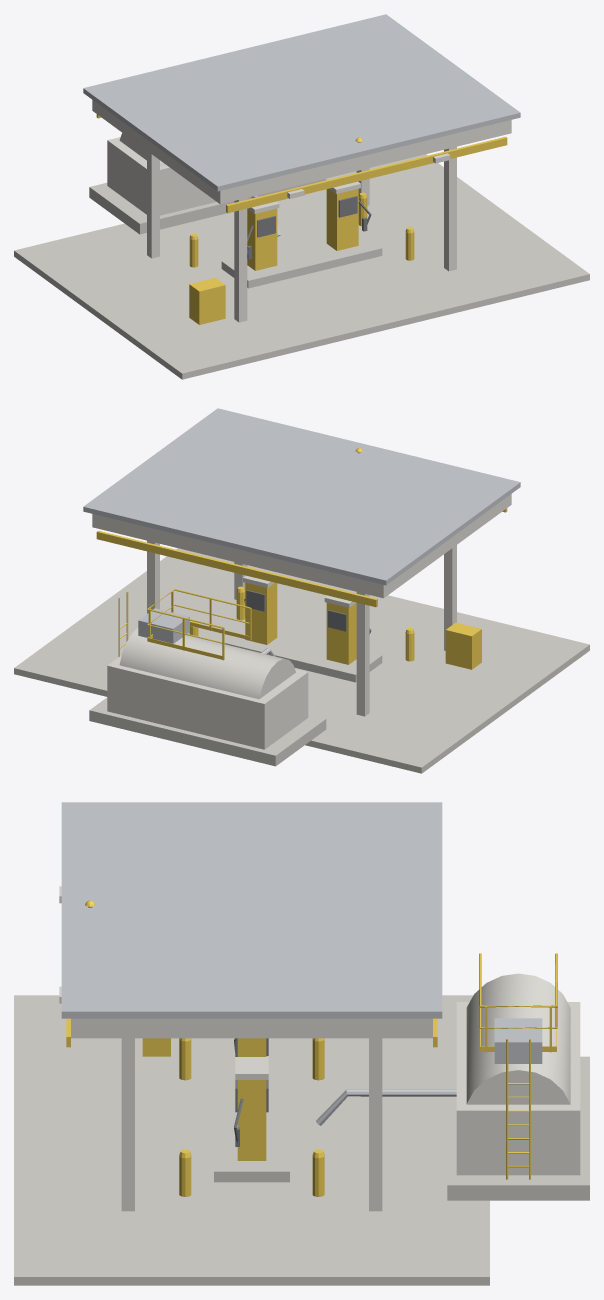
The model's file is ore-processing-and-haulage-plant-fuel-island-52c33a12.glb.
3 renders of one model, top to bottom at view 1: azimuth 30°, elevation 25°; view 2: azimuth 150°, elevation 25°; view 3: azimuth 270°, elevation 25°, orthographic. The views are drawn at different scales.
Visible parts, largest first — view 1: fuel-island; view 2: fuel-island; view 3: fuel-island.
Boxes of the visible parts, x1=… form: fuel-island: x1=14, y1=14, x2=589, y2=379; fuel-island: x1=14, y1=408, x2=589, y2=773; fuel-island: x1=14, y1=802, x2=589, y2=1285.
Size of the model in its own units: 14 by 5.65 by 12.1.
